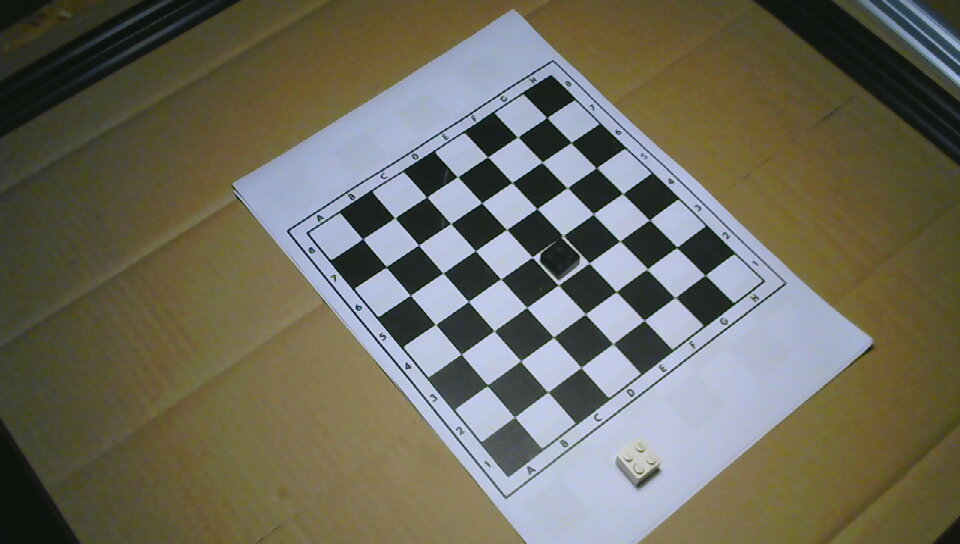bp: (541, 239, 580, 279)
wp: (615, 438, 662, 488)
